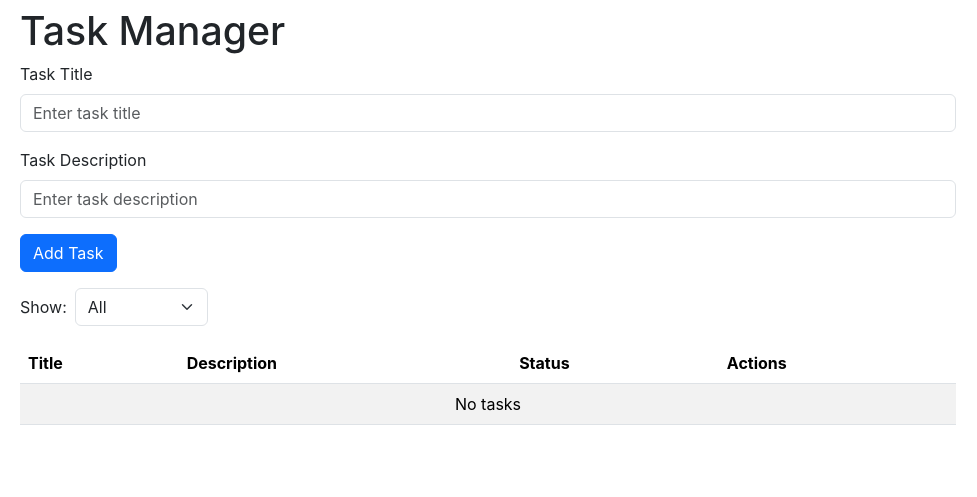
Scenario: App Component › filters tasks by "Completed" status
Type "Task 1" into the field with placeholder "Enter task title".
click(488, 113); type("Task 1")  # box [20,94,956,132]
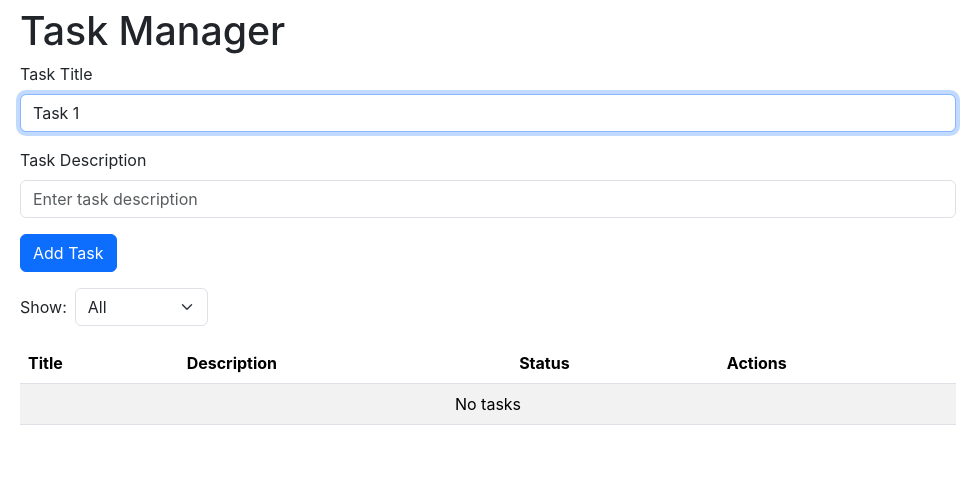
Click the button "Add Task".
click(68, 253)  # box [20,234,116,272]
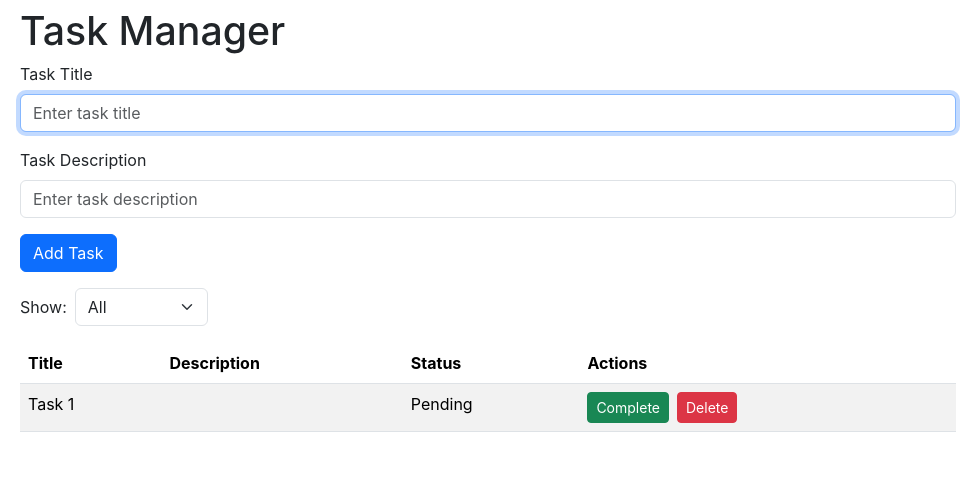
Type "Task 2" into the field with placeholder "Enter task title".
click(488, 113); type("Task 2")  # box [20,94,956,132]
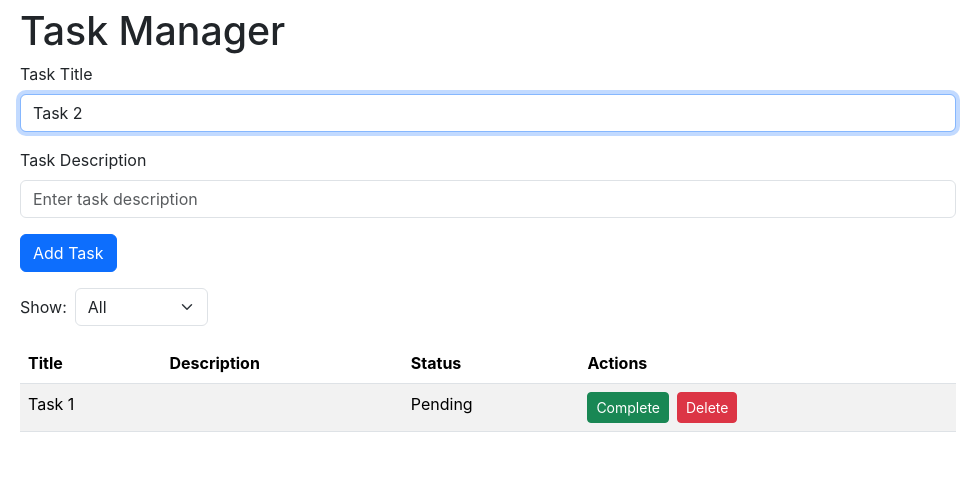
Click the button "Add Task".
click(68, 253)  # box [20,234,116,272]
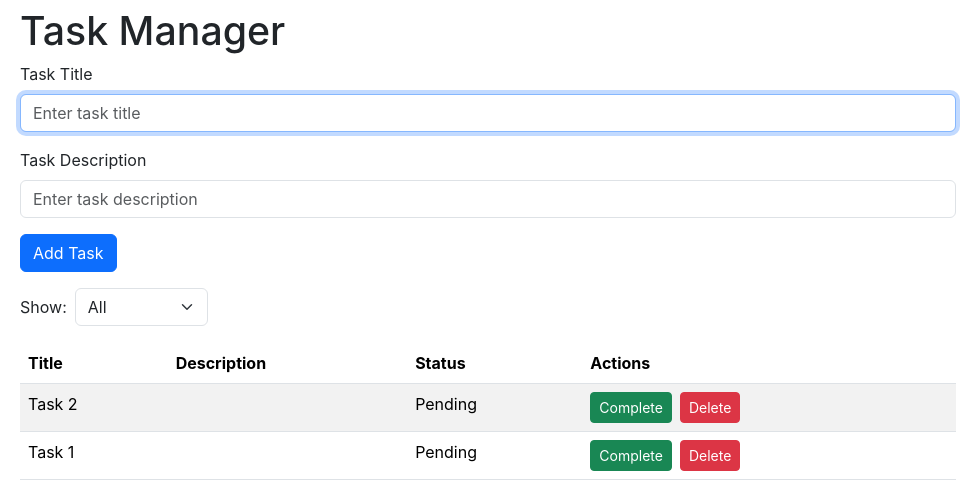
Click the button "Complete" in the row of "Task 2".
click(631, 408)  # box [590,392,672,423]
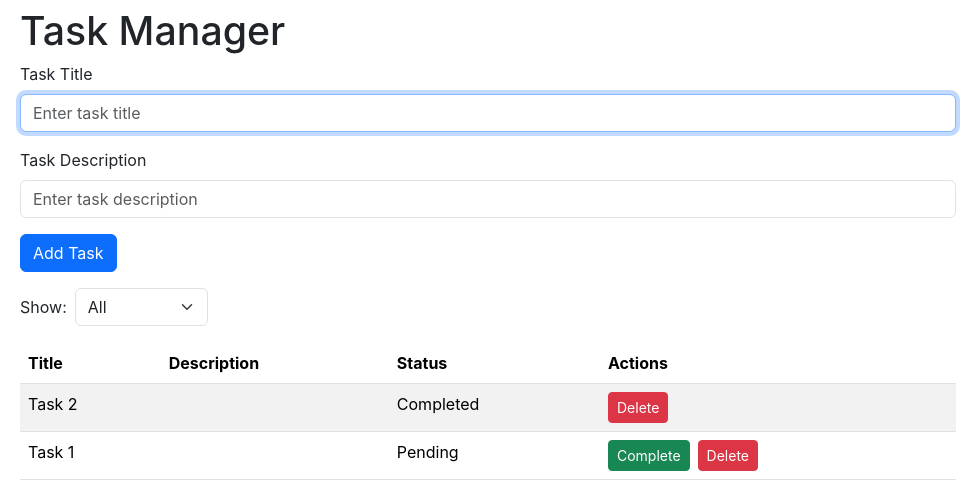
Select "Completed" in the dropdown showing "All" at (141, 307), box [75,288,208,326]
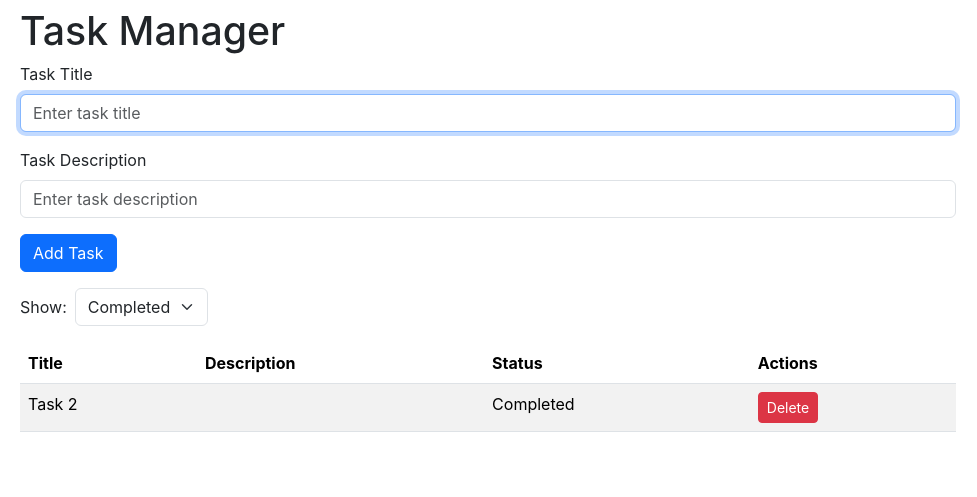
Check: the text "Task 2" is shown, box [20,384,197,432]
Check: the text "Task 1" is gone
